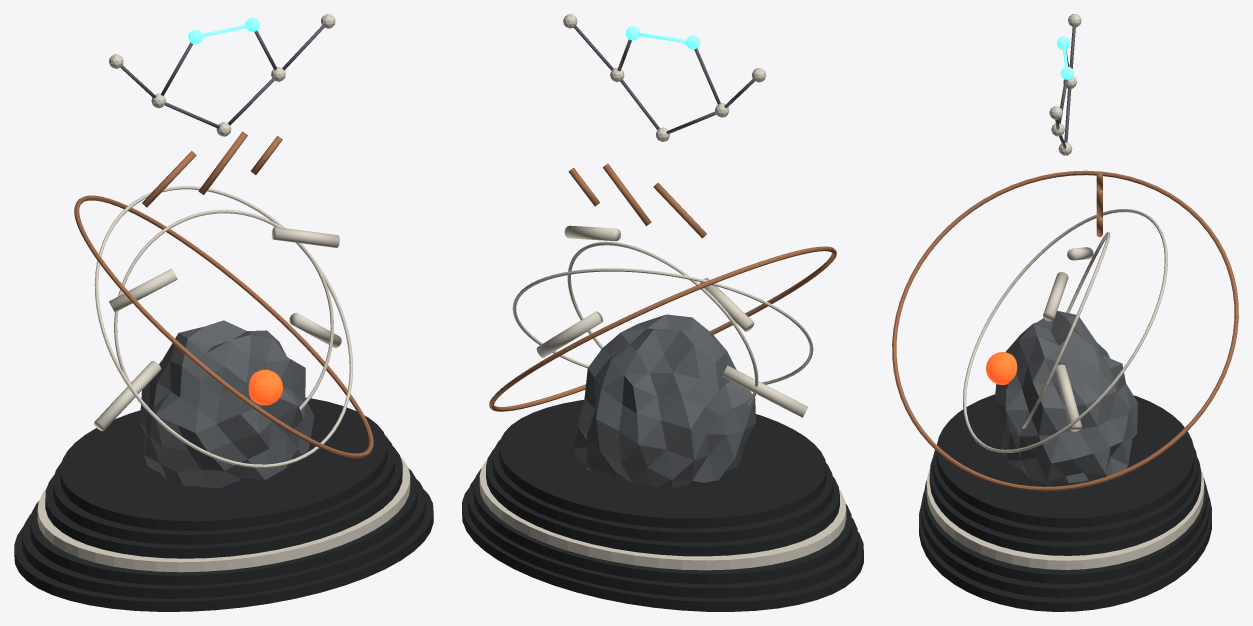
Rendered from chronicle-core.glb.
The picture shows the model from 3 angles, left to right: view 1: azimuth 30°, elevation 25°; view 2: azimuth 150°, elevation 25°; view 3: azimuth 270°, elevation 25°; orthographic projection. The views are drawn at different scales.
Visible parts, largest first — view 1: Stratum_06, Stone_Core, Stratum_00, Stratum_01, Stratum_02, Stratum_03, Stratum_04, Stratum_05, Time_Ring_02, Time_Ring_01, Time_Ring_00, Evidence_Fragment_00 (+5 smaller); view 2: Stone_Core, Stratum_06, Stratum_00, Stratum_01, Stratum_02, Stratum_03, Stratum_04, Stratum_05, Time_Ring_02, Time_Ring_01, Time_Ring_00, Evidence_Fragment_00 (+4 smaller); view 3: Stone_Core, Stratum_06, Time_Ring_02, Stratum_00, Stratum_01, Stratum_02, Stratum_03, Stratum_04, Stratum_05, Time_Ring_01, Time_Ring_00, Ember (+2 smaller).
Boxes of the visible parts, bbox=[...] form: Stratum_06: bbox=[60, 397, 387, 531]; Stone_Core: bbox=[140, 320, 314, 488]; Stratum_00: bbox=[14, 490, 433, 611]; Stratum_01: bbox=[22, 479, 425, 598]; Stratum_02: bbox=[30, 468, 417, 585]; Stratum_03: bbox=[37, 457, 410, 572]; Stratum_04: bbox=[45, 446, 402, 558]; Stratum_05: bbox=[53, 435, 394, 544]; Time_Ring_02: bbox=[74, 195, 373, 458]; Time_Ring_01: bbox=[94, 186, 353, 467]; Time_Ring_00: bbox=[114, 209, 333, 415]; Evidence_Fragment_00: bbox=[94, 361, 161, 431]; Stone_Core: bbox=[574, 314, 755, 487]; Stratum_06: bbox=[499, 400, 826, 528]; Stratum_00: bbox=[462, 488, 863, 611]; Stratum_01: bbox=[467, 478, 858, 597]; Stratum_02: bbox=[473, 468, 852, 584]; Stratum_03: bbox=[479, 459, 846, 570]; Stratum_04: bbox=[486, 449, 839, 556]; Stratum_05: bbox=[492, 439, 833, 542]; Time_Ring_02: bbox=[489, 246, 836, 411]; Time_Ring_01: bbox=[512, 268, 813, 384]; Time_Ring_00: bbox=[567, 241, 758, 405]; Evidence_Fragment_00: bbox=[722, 365, 807, 417]; Stone_Core: bbox=[994, 310, 1137, 484]; Stratum_06: bbox=[936, 394, 1194, 527]; Time_Ring_02: bbox=[892, 170, 1238, 491]; Stratum_00: bbox=[919, 497, 1211, 611]; Stratum_01: bbox=[921, 486, 1209, 597]; Stratum_02: bbox=[924, 477, 1206, 583]; Stratum_03: bbox=[926, 467, 1204, 569]; Stratum_04: bbox=[929, 457, 1201, 555]; Stratum_05: bbox=[933, 447, 1197, 541]; Time_Ring_01: bbox=[963, 209, 1167, 452]; Time_Ring_00: bbox=[1022, 232, 1110, 428]; Ember: bbox=[986, 352, 1017, 384].
Bounding box in the file's own units: 4.39 × 5.67 × 3.75.
